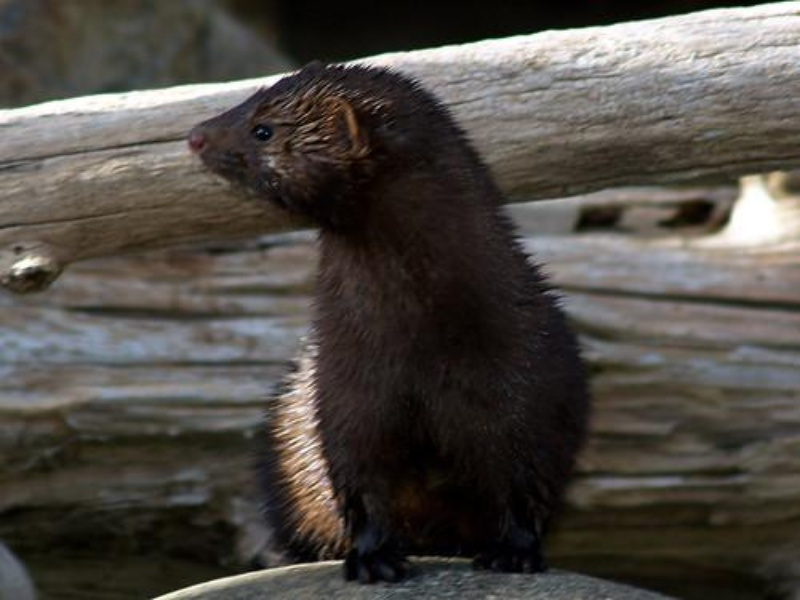minkish: (186, 61, 595, 577)
